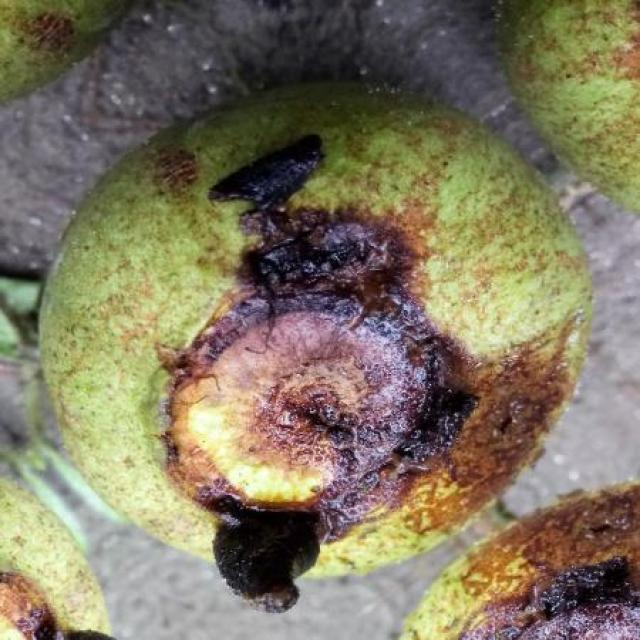Styler and Root: (41, 86, 590, 607), (405, 482, 640, 640)
